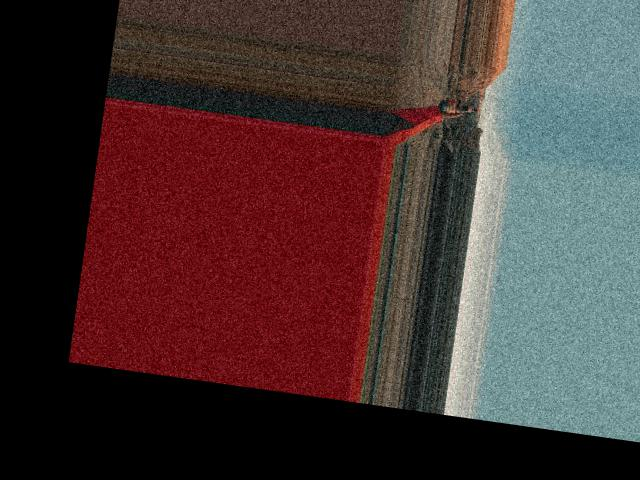beer: (439, 98, 477, 117)
